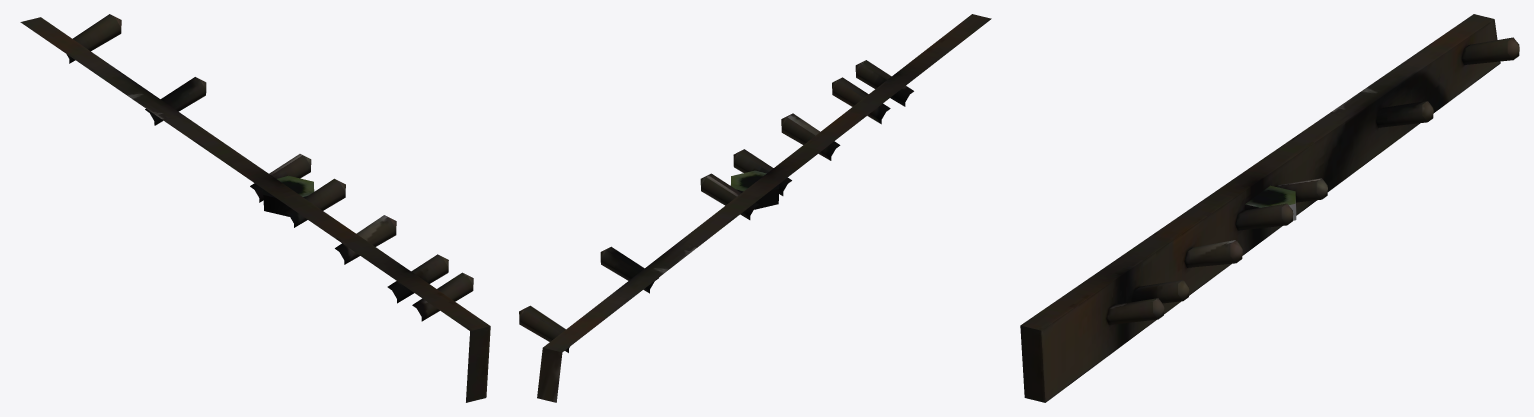
3 renders of one model, left to right at view 1: azimuth 30°, elevation 25°; view 2: azimuth 150°, elevation 25°; view 3: azimuth 330°, elevation 25°, orthographic. The views are drawn at different scales.
Visible parts, largest first — view 1: body0_model0_lod0_mesh0; view 2: body0_model0_lod0_mesh0; view 3: body0_model0_lod0_mesh0.
Boxes of the visible parts, <box> form: body0_model0_lod0_mesh0: <box>20,14,490,402</box>; body0_model0_lod0_mesh0: <box>519,14,991,402</box>; body0_model0_lod0_mesh0: <box>1020,14,1519,402</box>.
Bounding box in the file's own units: 4.01 × 3.9 × 43.01.
1 material, 1 textured.
